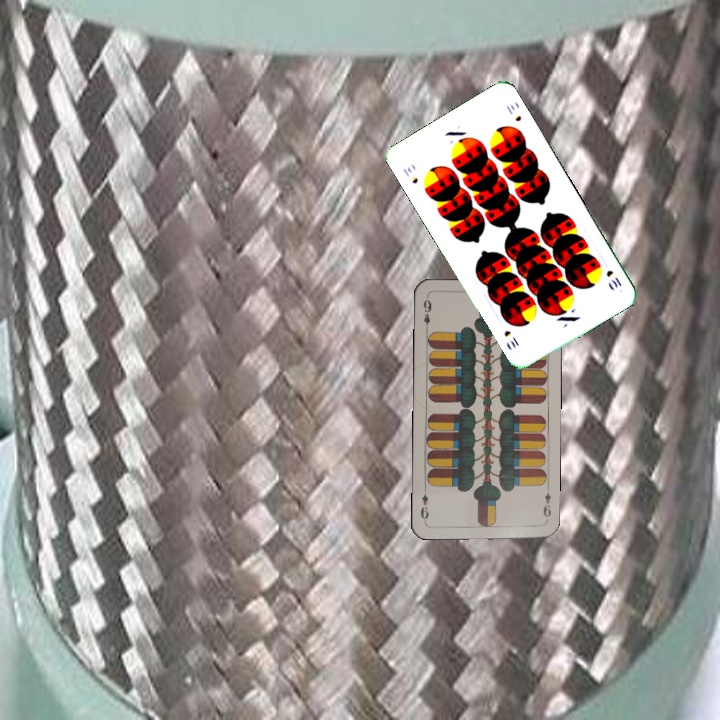E9: (419, 296, 434, 334), (539, 484, 553, 524)
S10: (602, 266, 624, 291), (399, 163, 421, 186)
